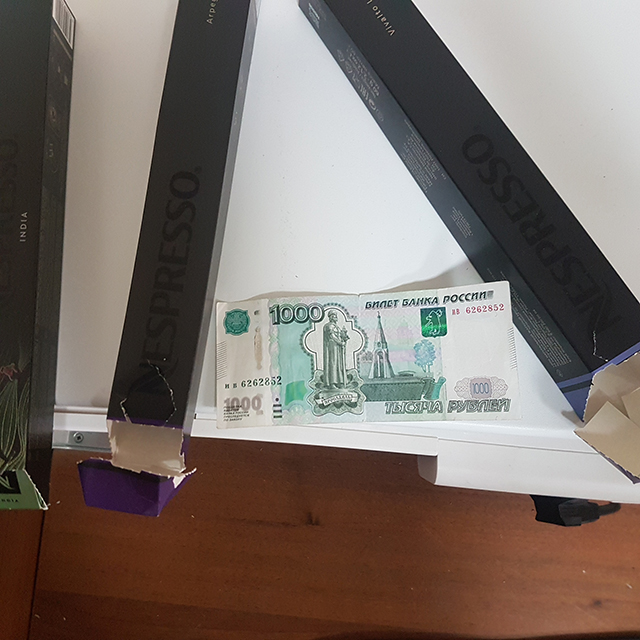banknotes: (216, 280, 522, 429)
